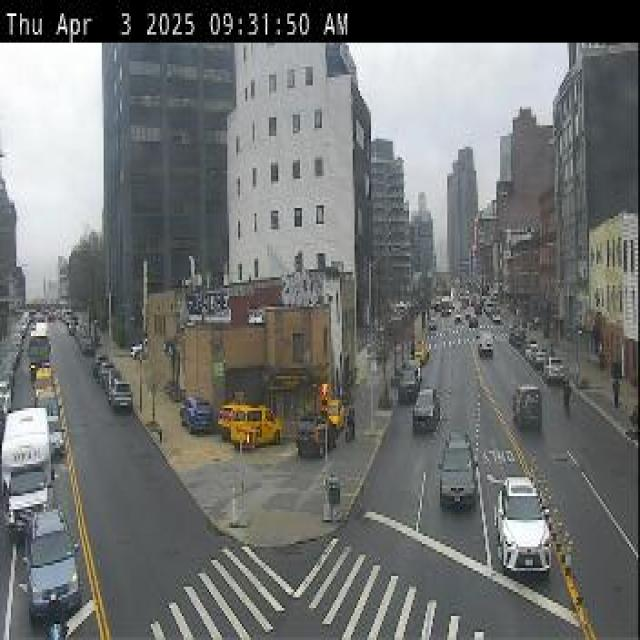open parking: (80, 337, 104, 366)
parkedCars: (507, 329, 582, 390), (94, 360, 136, 412), (400, 337, 432, 390)
